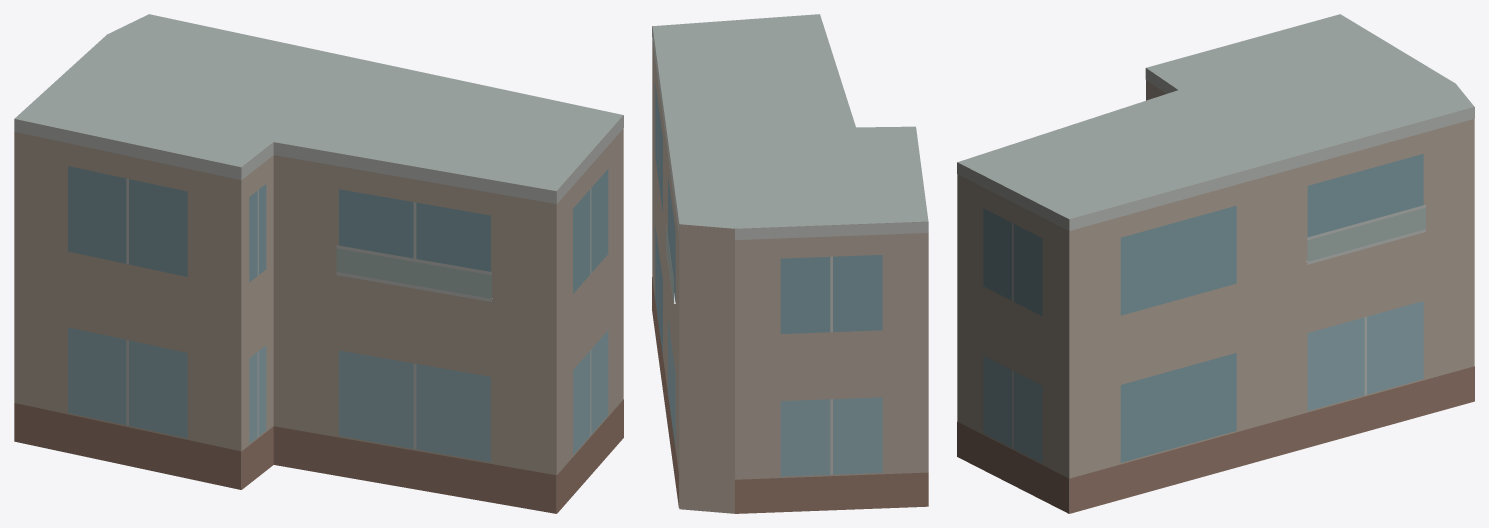
Rendered from survey-upis-32459727.glb.
3 views of the same model, side by side, from view 1: azimuth 30°, elevation 25°; view 2: azimuth 150°, elevation 25°; view 3: azimuth 270°, elevation 25° (orthographic). The views are drawn at different scales.
Parts seen in each view (by area): view 1: survey-upis-32459727.tmp; view 2: survey-upis-32459727.tmp; view 3: survey-upis-32459727.tmp.
Part boxes in pixels (box(x1,y1,x2,y2)): survey-upis-32459727.tmp: box(14, 14, 623, 513); survey-upis-32459727.tmp: box(652, 14, 928, 513); survey-upis-32459727.tmp: box(957, 14, 1474, 513).
Size of the model in its own units: 9.13 by 6.1 by 9.72.
